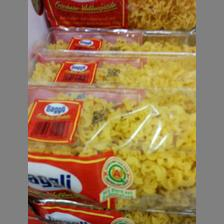Nudeln: (25, 87, 194, 211), (26, 53, 194, 87), (34, 29, 194, 51)
